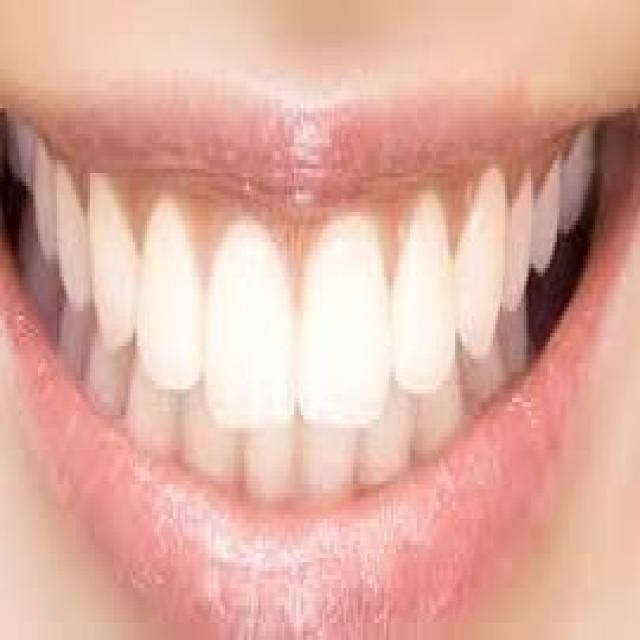tooth: (204, 225, 287, 424), (306, 225, 382, 389), (396, 221, 453, 376), (144, 212, 197, 376), (464, 177, 502, 333), (90, 199, 128, 316), (299, 406, 346, 493), (538, 177, 602, 238), (410, 380, 467, 446), (240, 415, 292, 484), (135, 372, 176, 454), (360, 411, 403, 488), (462, 355, 512, 415), (188, 398, 220, 476), (61, 177, 80, 303), (512, 186, 533, 298), (29, 160, 54, 238), (502, 324, 536, 368), (102, 342, 121, 415), (64, 302, 85, 368)
